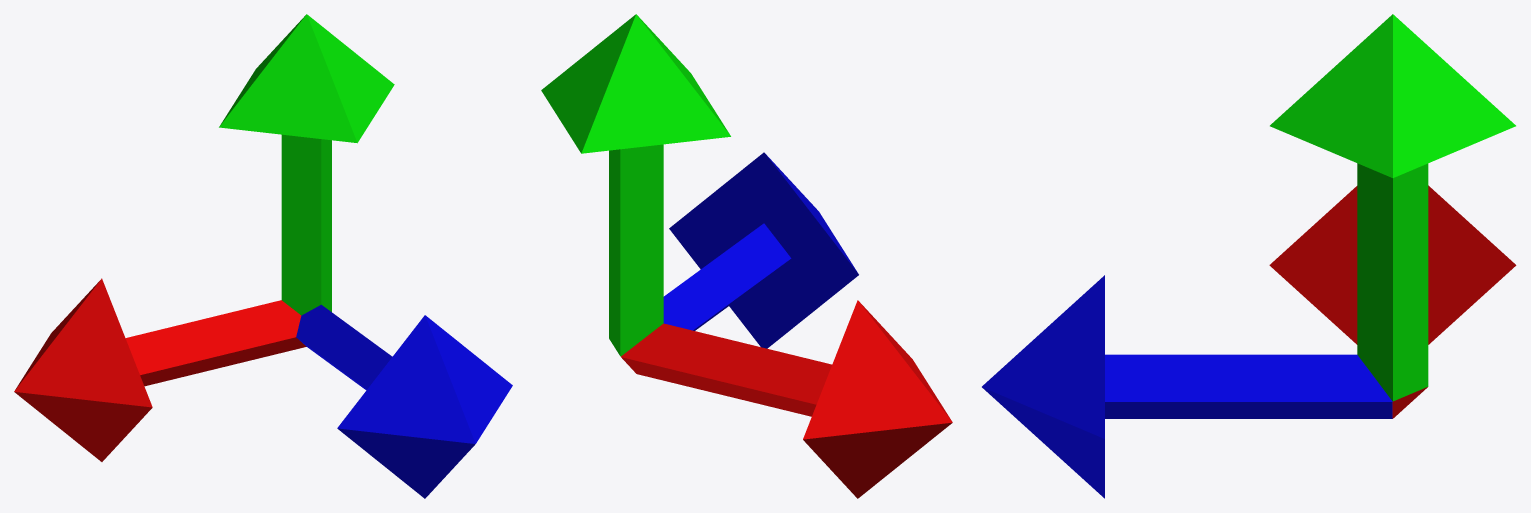
The model's file is AxisTripod.fbx.
3 renders of one model, left to right at view 1: azimuth 30°, elevation 25°; view 2: azimuth 150°, elevation 25°; view 3: azimuth 270°, elevation 25°, orthographic. The views are drawn at different scales.
Parts seen in each view (by area): view 1: AxisTripod; view 2: AxisTripod; view 3: AxisTripod.
Part boxes in pixels (left/top/right/bottom): AxisTripod: left=14, top=14, right=512, bottom=498; AxisTripod: left=541, top=14, right=952, bottom=498; AxisTripod: left=982, top=14, right=1516, bottom=498.
Size of the model in its own units: 0.6121 by 0.6121 by 0.6121.
